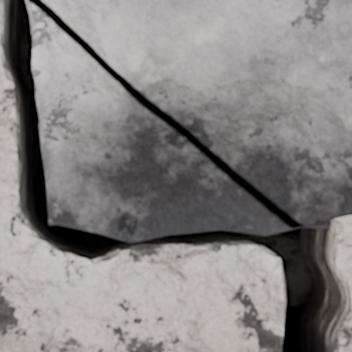brick: (43, 0, 351, 224)
crack: (0, 0, 351, 351)
